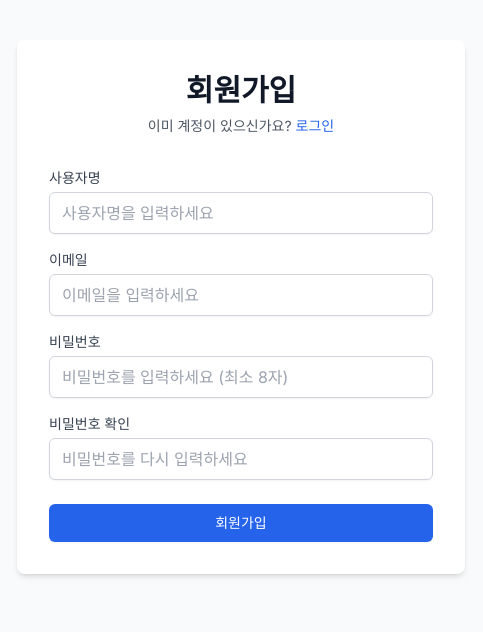
it: RegisterPage › shows error when password is less than 8 characters
# Fill in the form fields
In the field labelled "사용자명": coordinates (241, 213) [49,192,433,234], type "testuser"
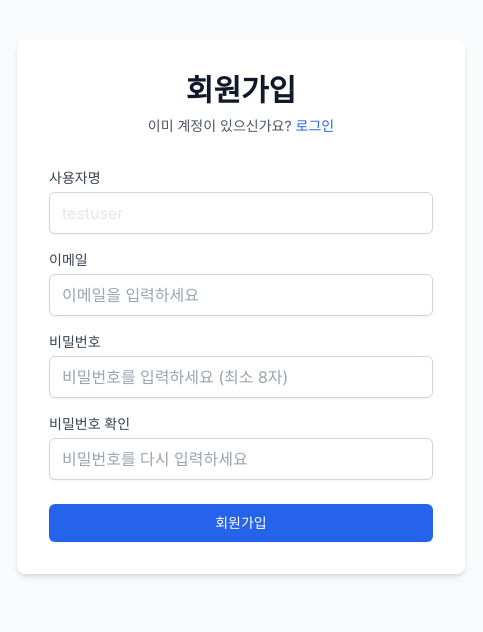
In the field labelled "이메일": coordinates (241, 295) [49,274,433,316], type "test@example.com"
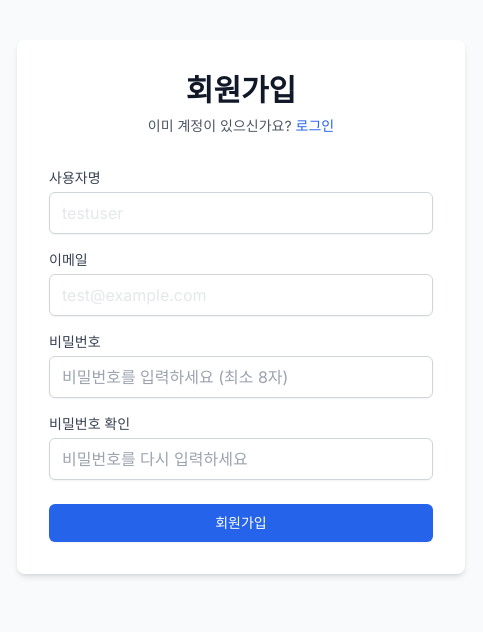
In the password field labelled "비밀번호": coordinates (241, 377) [49,356,433,398], type "short"
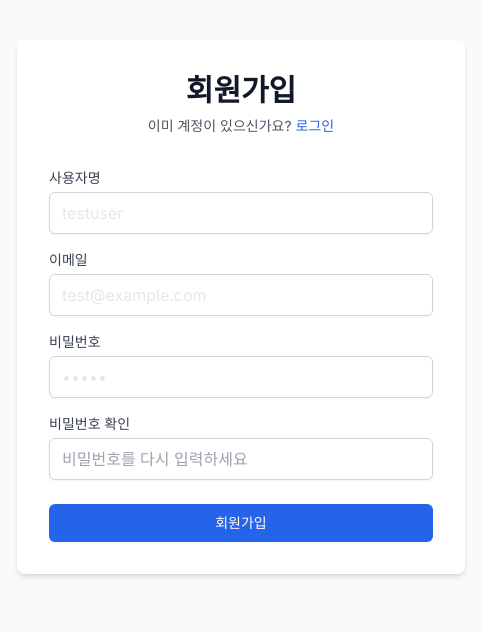
In the password field labelled "비밀번호 확인": coordinates (241, 459) [49,438,433,480], type "short"
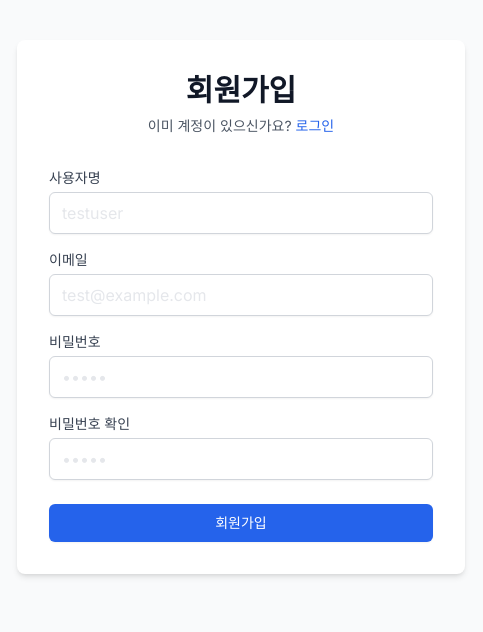
Click the button "회원가입": coordinates (241, 523) [49,504,433,542]
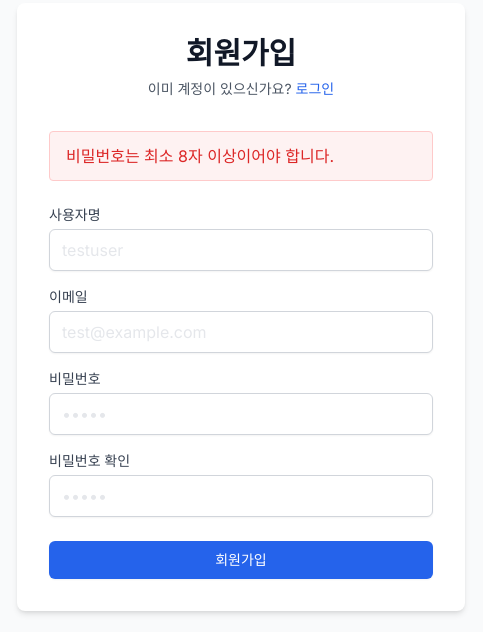
Expected: the text "비밀번호는 최소 8자 이상이어야 합니다." is shown, [49,131,433,181]
